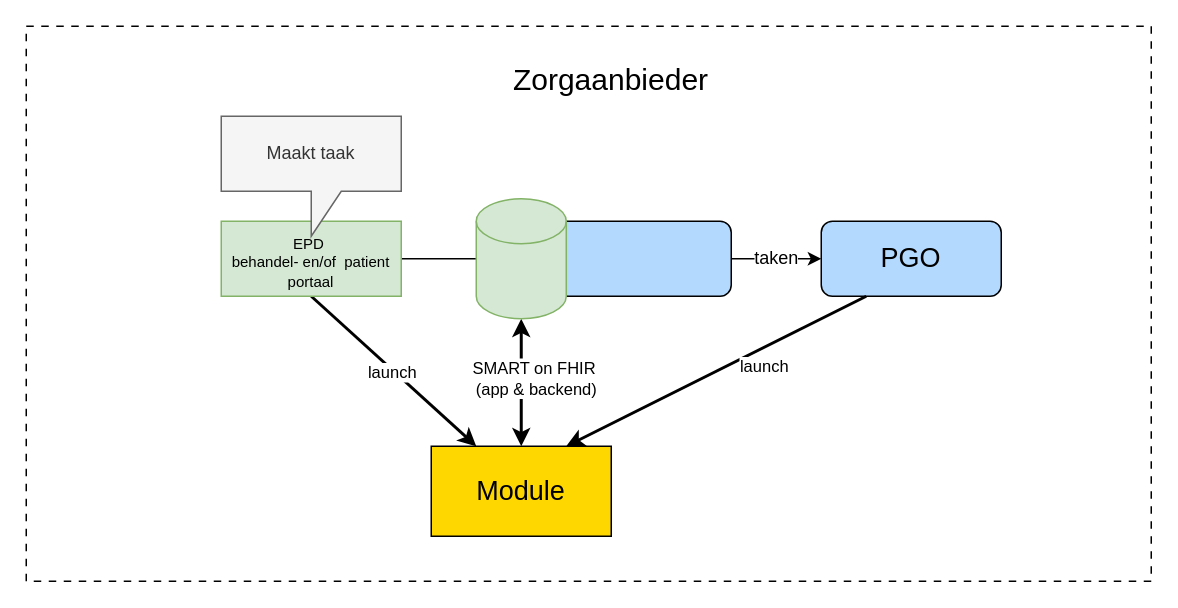
Some shapes in this 1178 by 608 pixel diagram are drawn without their labels. Each missing label, with the box of its shape:
DVA: (550, 220, 731, 296)
FHIR Service: (475, 197, 566, 319)
